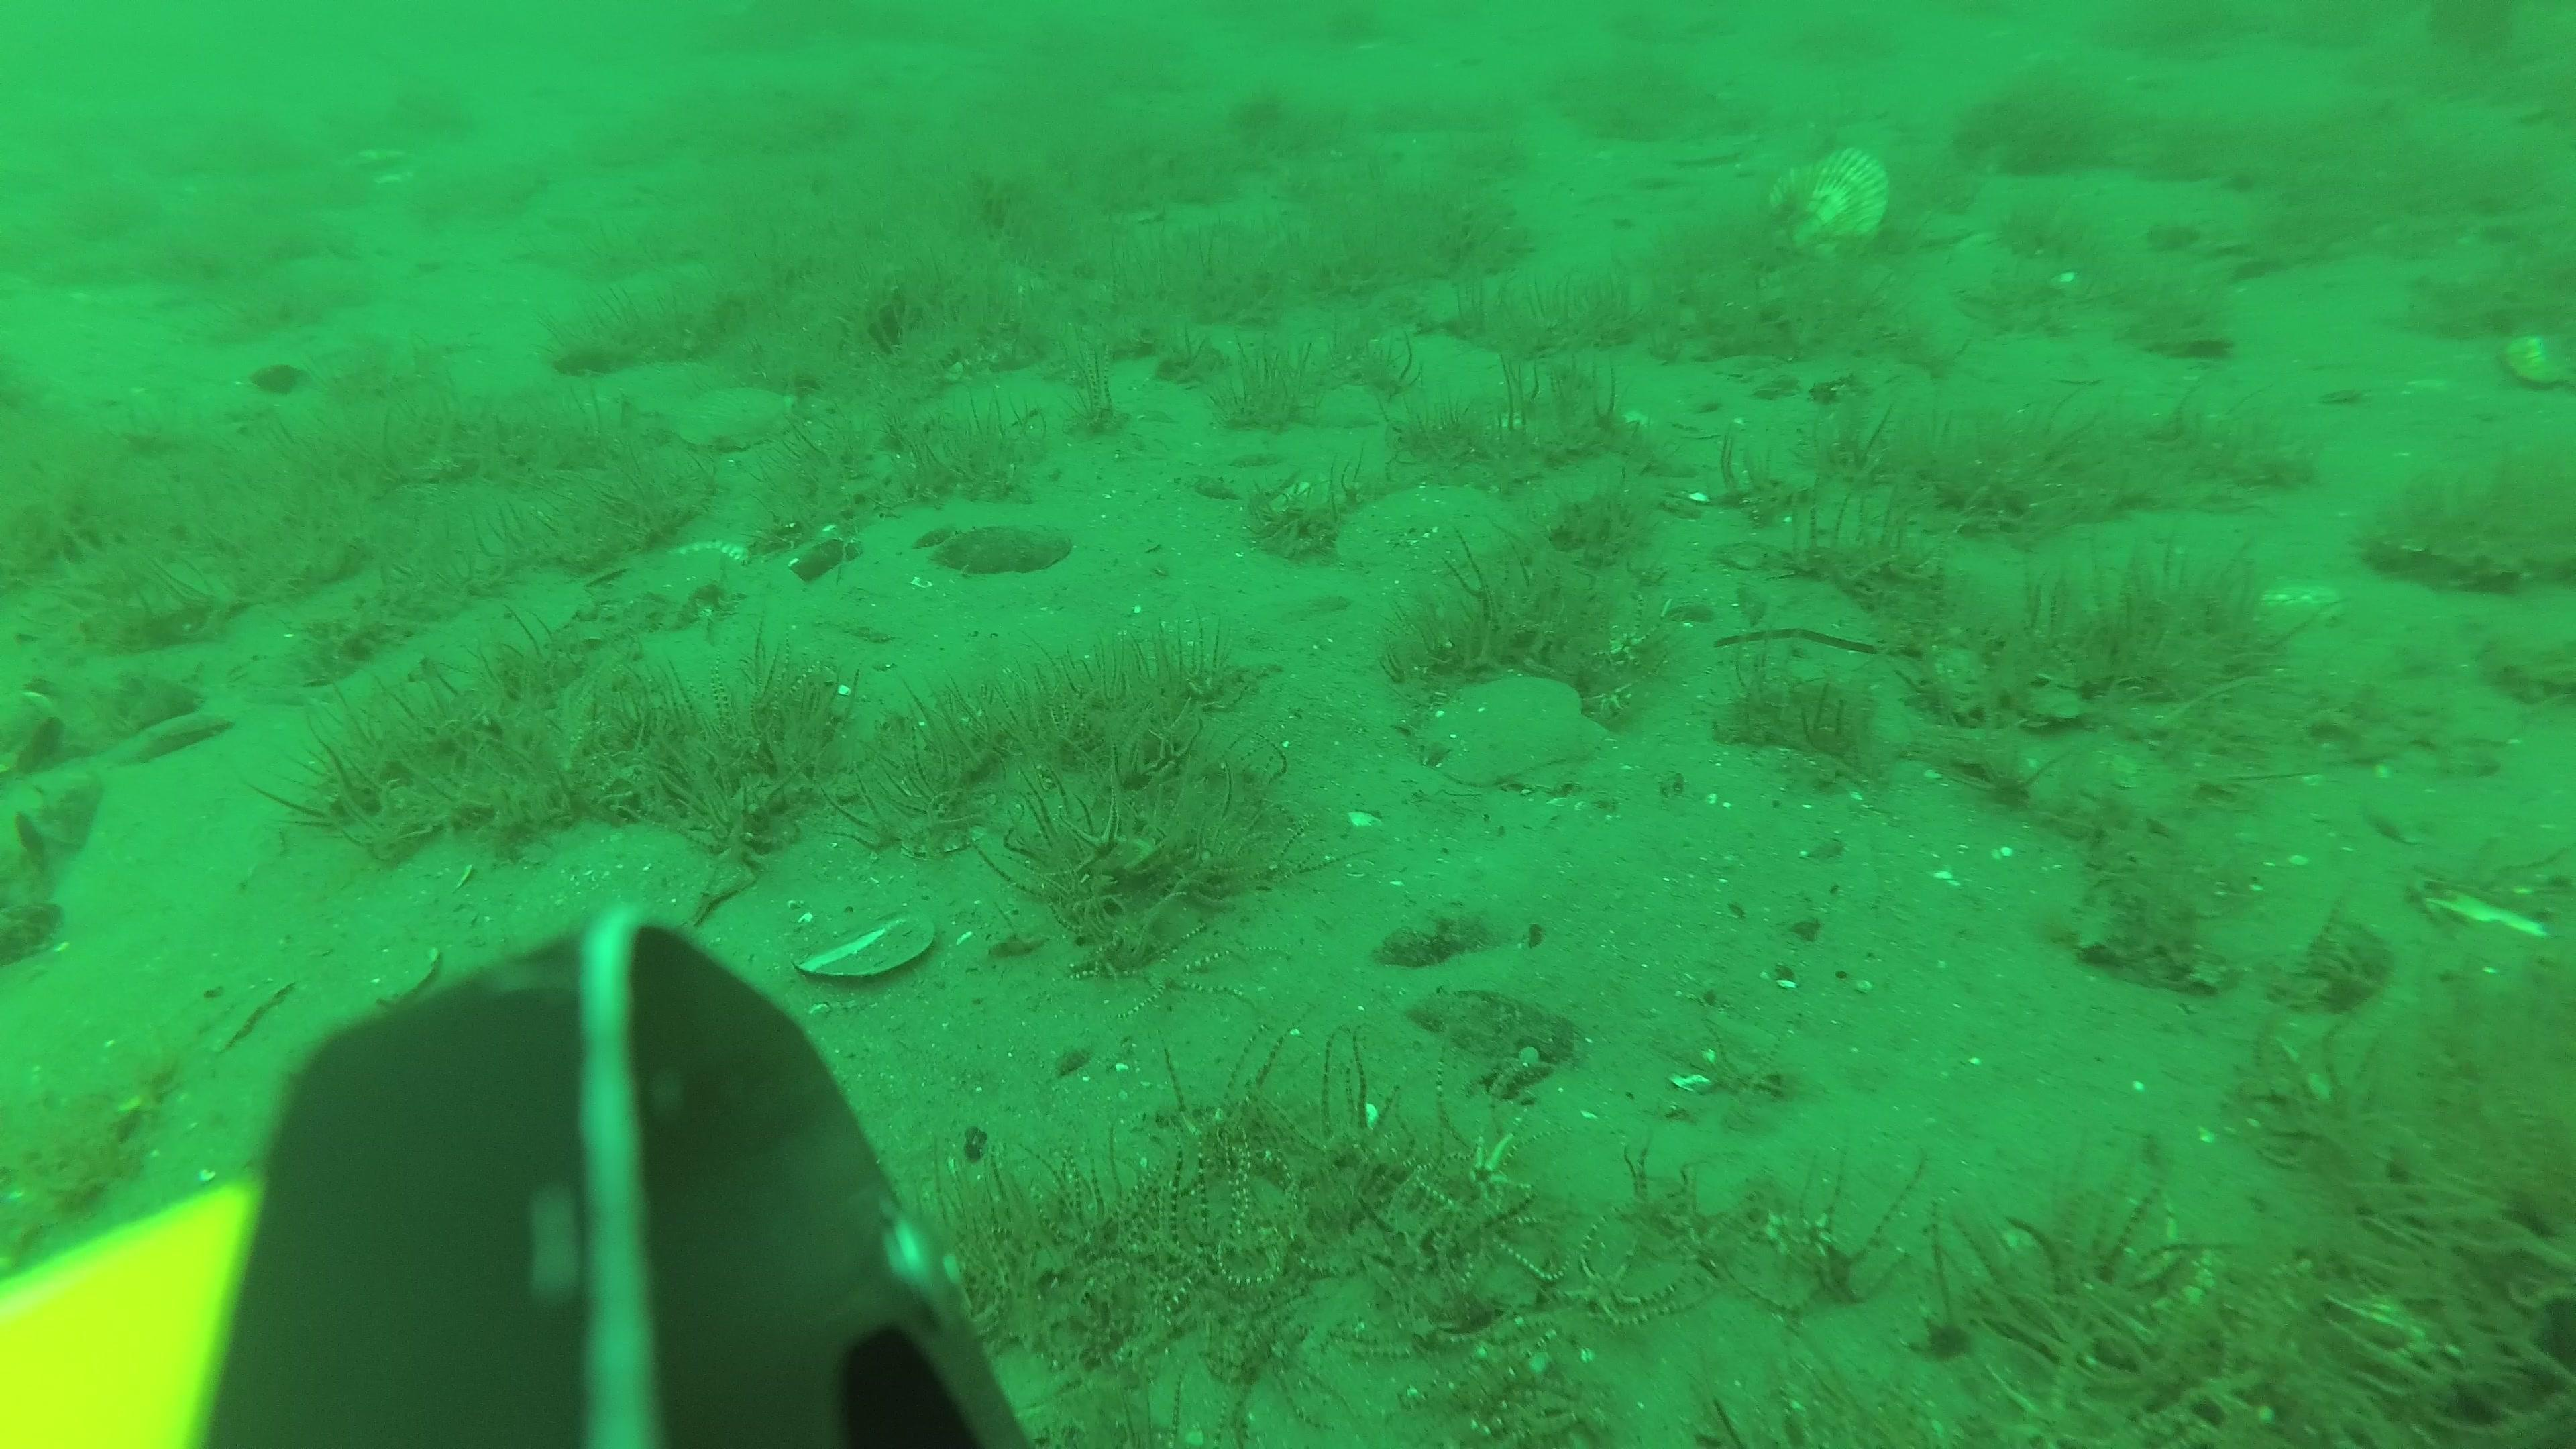scallop: (508, 824, 755, 971), (1421, 674, 1603, 789), (1771, 149, 1895, 265), (671, 389, 800, 449), (2505, 327, 2576, 386)
